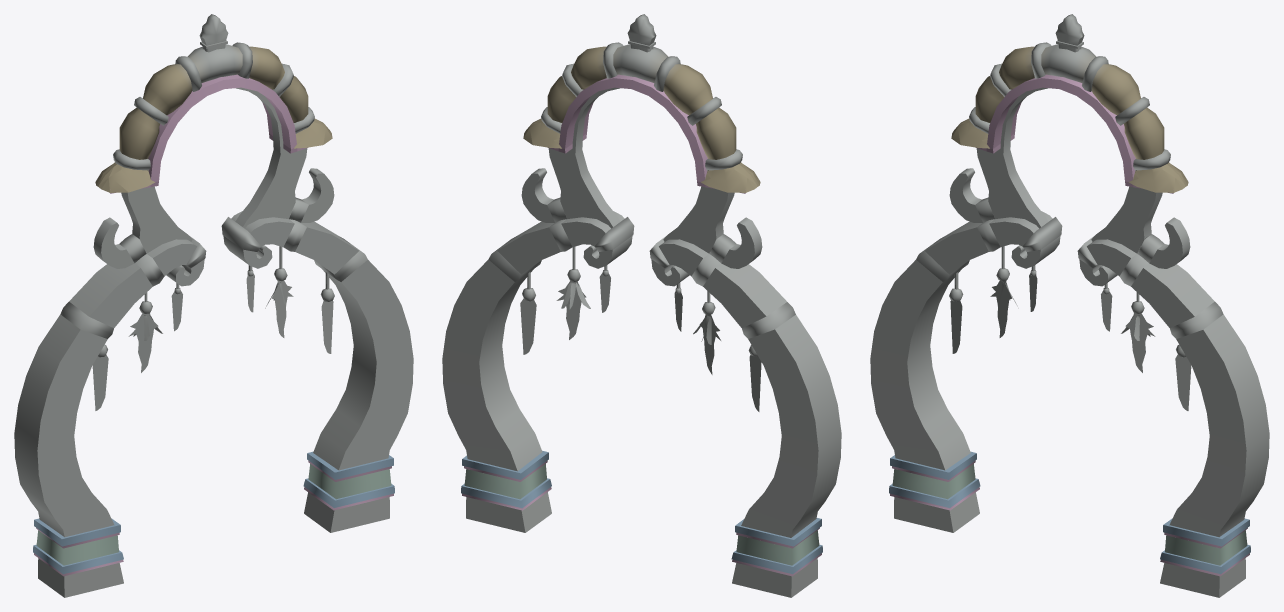
The picture shows the model from 3 angles, left to right: view 1: azimuth 30°, elevation 25°; view 2: azimuth 150°, elevation 25°; view 3: azimuth 330°, elevation 25°; orthographic projection.
Parts seen in each view (by area): view 1: G:\FFXIV-MapTools\exports\y6f2\bg\ex5\02_ykt_y6\fld\y6f2\bgp (×8); view 2: G:\FFXIV-MapTools\exports\y6f2\bg\ex5\02_ykt_y6\fld\y6f2\bgp (×8); view 3: G:\FFXIV-MapTools\exports\y6f2\bg\ex5\02_ykt_y6\fld\y6f2\bgp (×8).
Part boxes in pixels (bbox=[...]): G:\FFXIV-MapTools\exports\y6f2\bg\ex5\02_ykt_y6\fld\y6f2\bgp (×8): bbox=[14, 14, 413, 597]; G:\FFXIV-MapTools\exports\y6f2\bg\ex5\02_ykt_y6\fld\y6f2\bgp (×8): bbox=[442, 14, 841, 597]; G:\FFXIV-MapTools\exports\y6f2\bg\ex5\02_ykt_y6\fld\y6f2\bgp (×8): bbox=[870, 14, 1269, 597].
Size of the model in its own units: 16.27 by 22.01 by 2.26.
